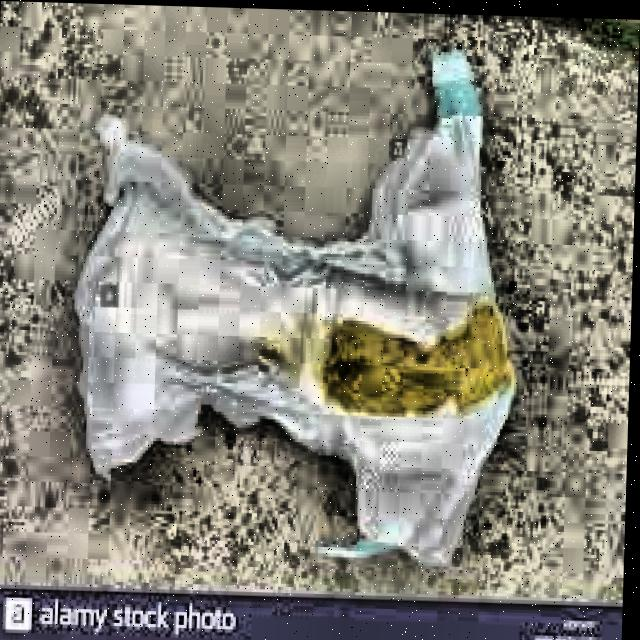trash: (79, 50, 526, 575)
